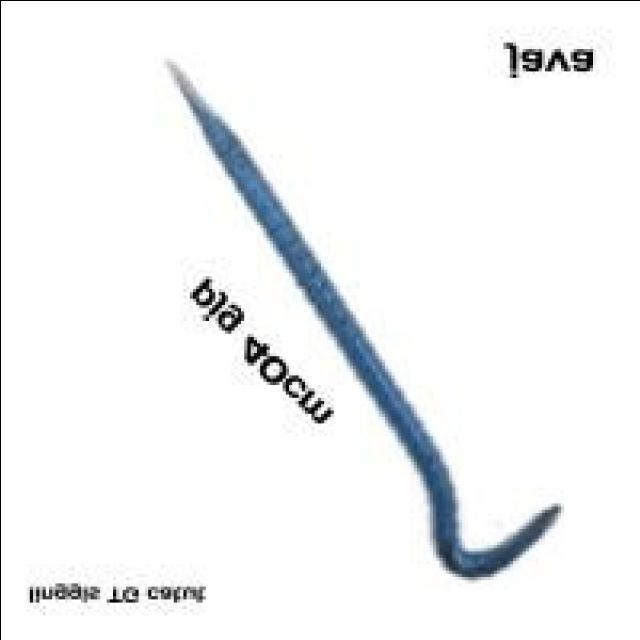Linggis: (170, 57, 562, 582)
